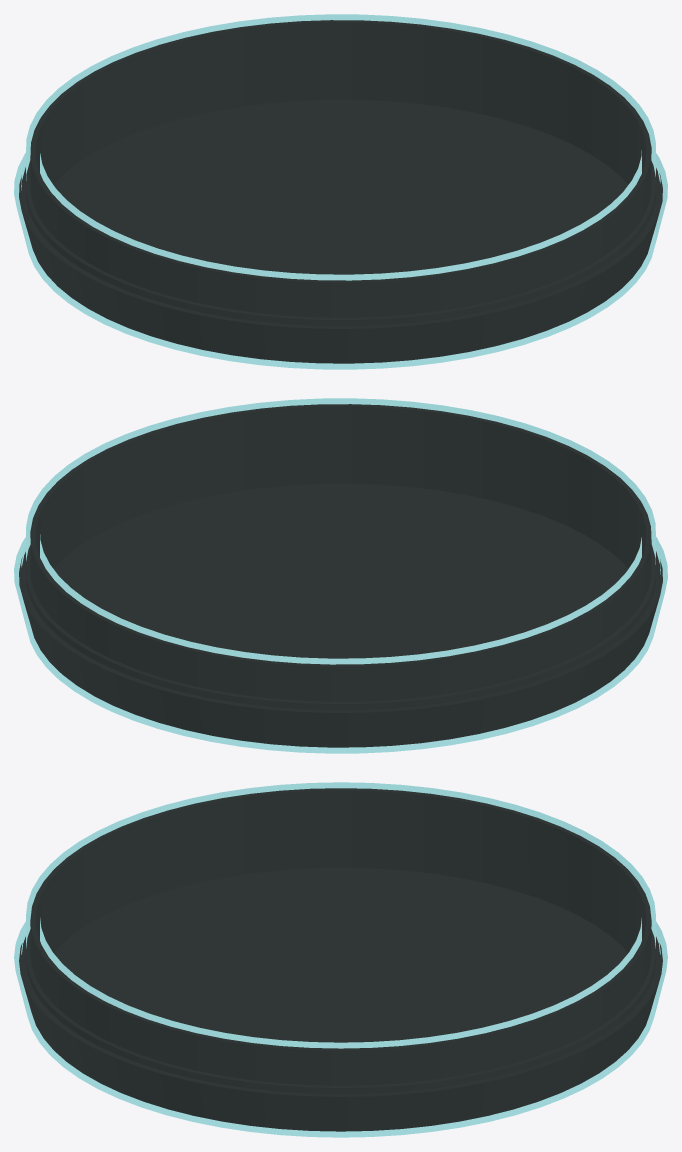
File: petri_dish.gltf
The picture shows the model from 3 angles, top to bottom: view 1: azimuth 30°, elevation 25°; view 2: azimuth 150°, elevation 25°; view 3: azimuth 270°, elevation 25°; orthographic projection.
Visible parts, largest first — view 1: Cylinder; view 2: Cylinder; view 3: Cylinder.
Part boxes in pixels (left/top/right/bottom): Cylinder: left=14, top=14, right=667, bottom=369; Cylinder: left=14, top=398, right=667, bottom=753; Cylinder: left=14, top=782, right=667, bottom=1137.
Size of the model in its own units: 2.09 by 0.315 by 2.09.
